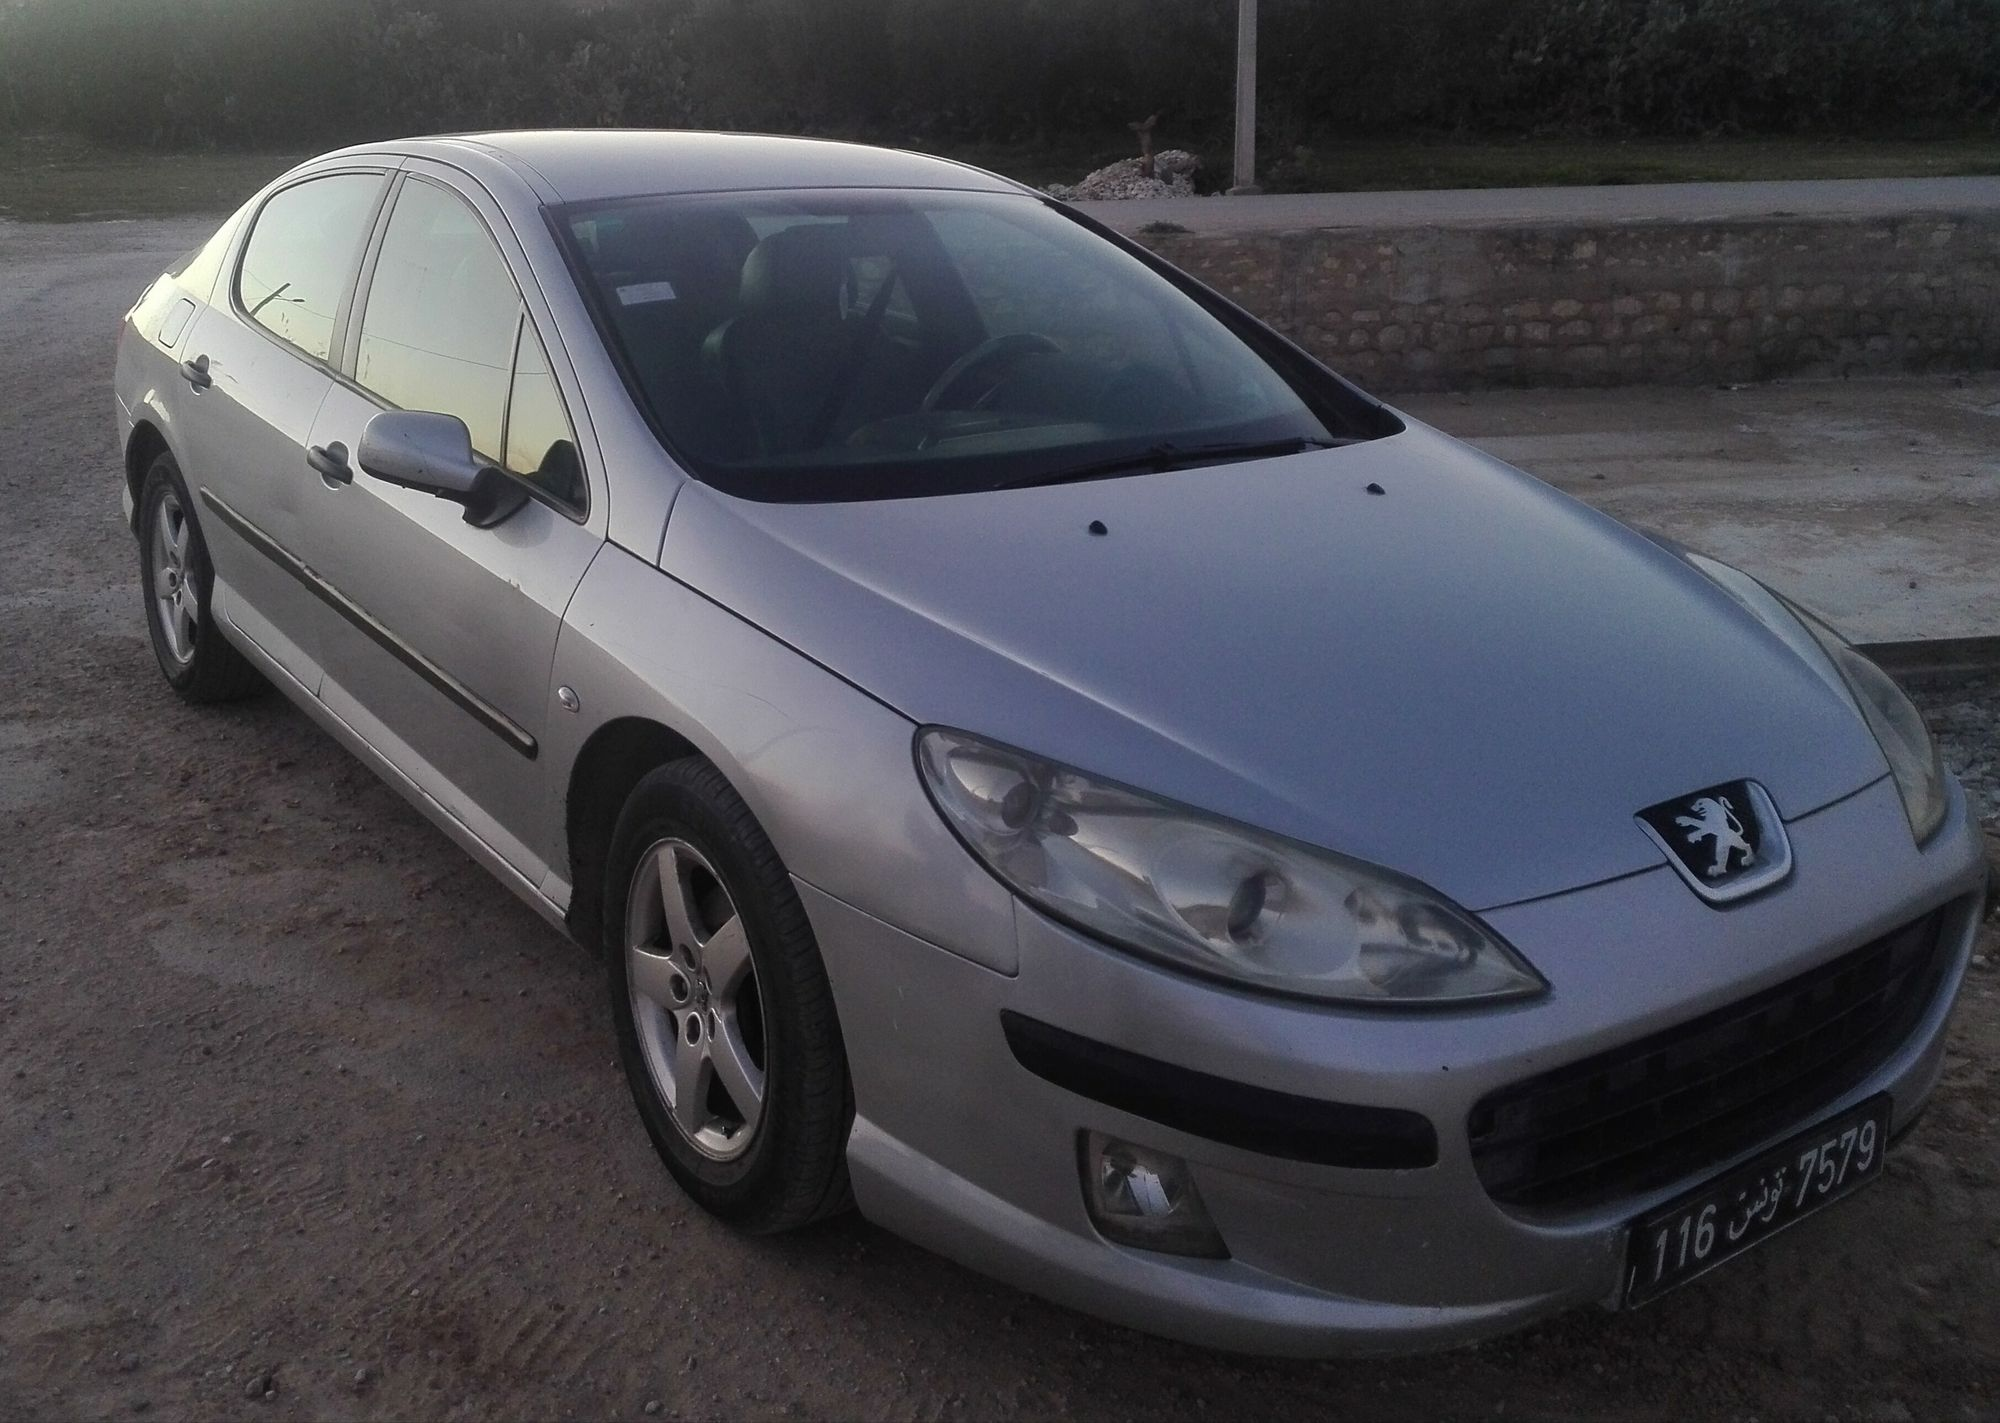LP: (1619, 1101, 1894, 1317)
